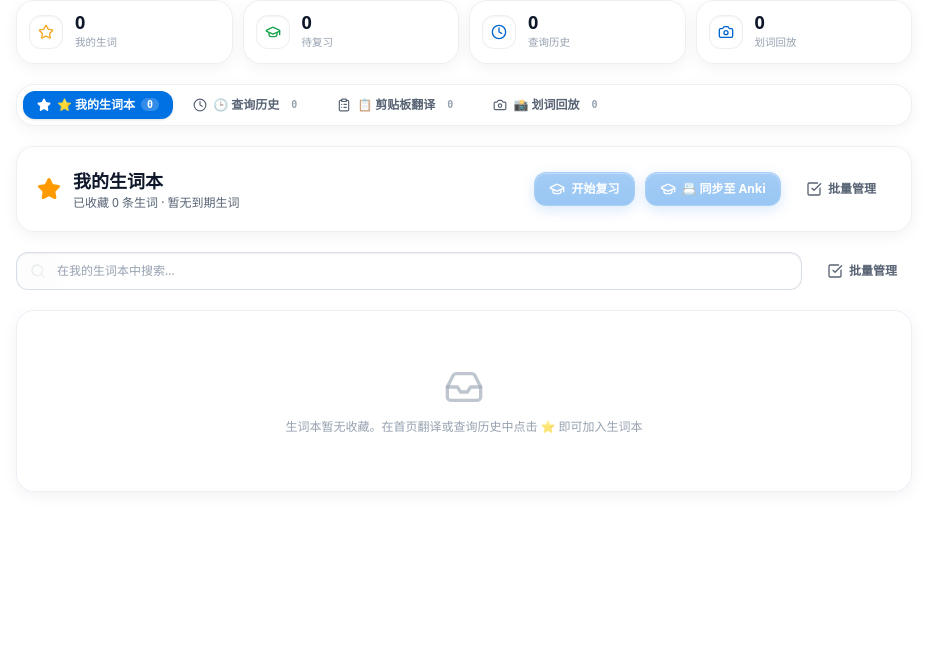
it: vocabulary review mode (Leitner flashcards) › no favourites → review disabled with guidance
Check: the text "生词本暂无收藏。在首页翻译或查询历史中点击 ⭐ 即可加入生词本" is shown, box [285,418,643,435]
Check: the button "开始复习" is disabled, box [534,172,634,206]
// Switch to 查询历史 sub-tab to see non-favourited history entries
Click the button "🕒 查询历史 0".
click(248, 105)  # box [179,91,317,119]
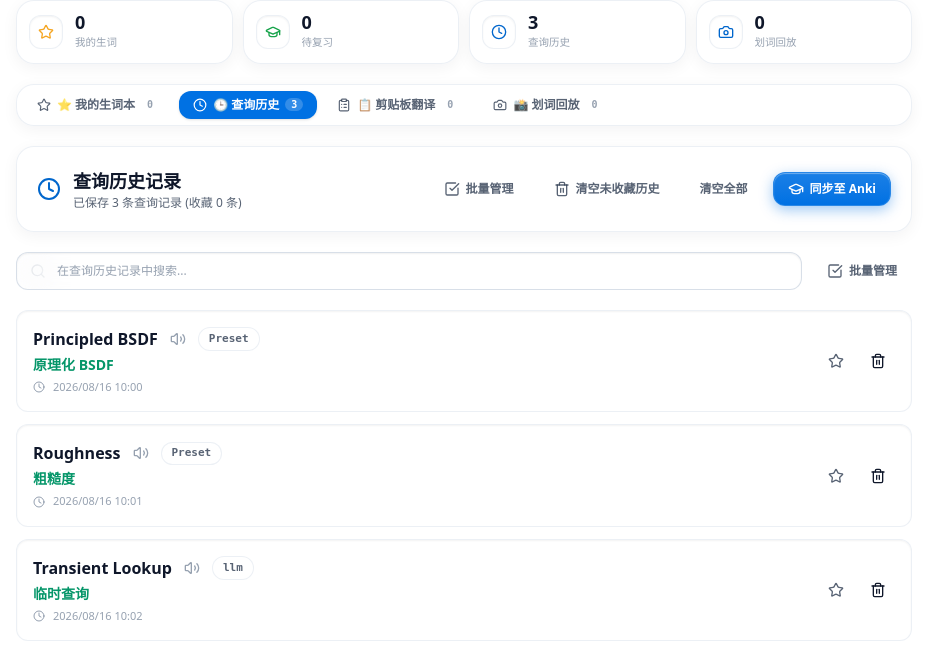
Check: the text "Transient Lookup" is shown, box [33,556,172,580]
